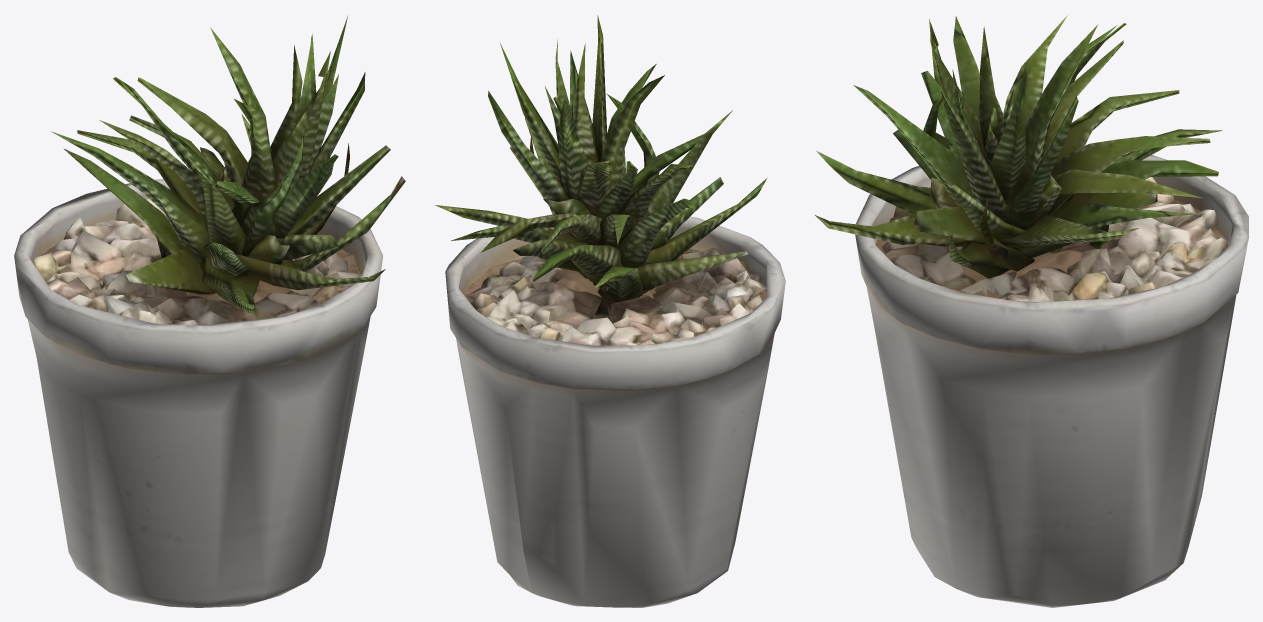
Rendered from potted_plant_04.glb.
The picture shows the model from 3 angles, left to right: view 1: azimuth 30°, elevation 25°; view 2: azimuth 150°, elevation 25°; view 3: azimuth 270°, elevation 25°; orthographic projection. The views are drawn at different scales.
Parts seen in each view (by area): view 1: potted_plant_04_ground; view 2: potted_plant_04_ground; view 3: potted_plant_04_ground.
Part boxes in pixels (x1,y1,x2,y2): potted_plant_04_ground: [14, 15, 405, 607]; potted_plant_04_ground: [435, 15, 785, 607]; potted_plant_04_ground: [815, 15, 1248, 607].
Size of the model in its own units: 0.1669 by 0.2672 by 0.1831.
1 material, 1 textured.
